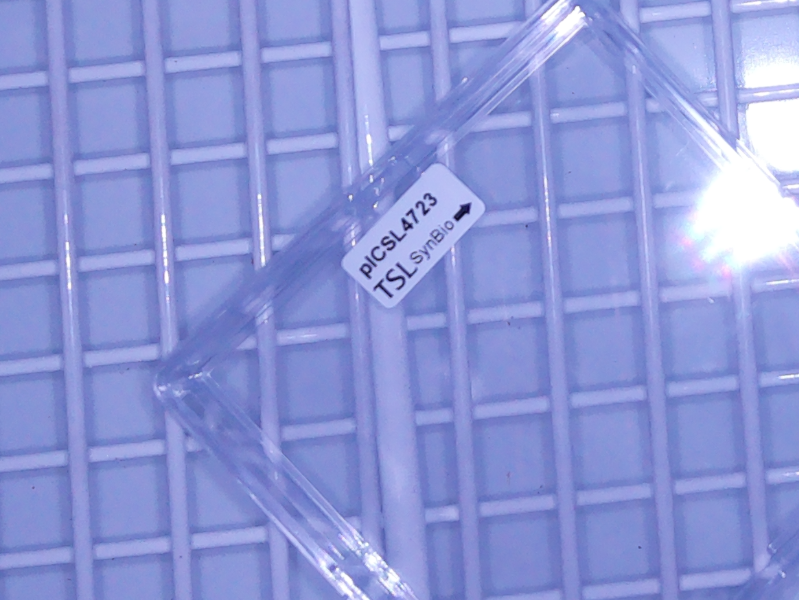plate: (152, 1, 799, 600)
